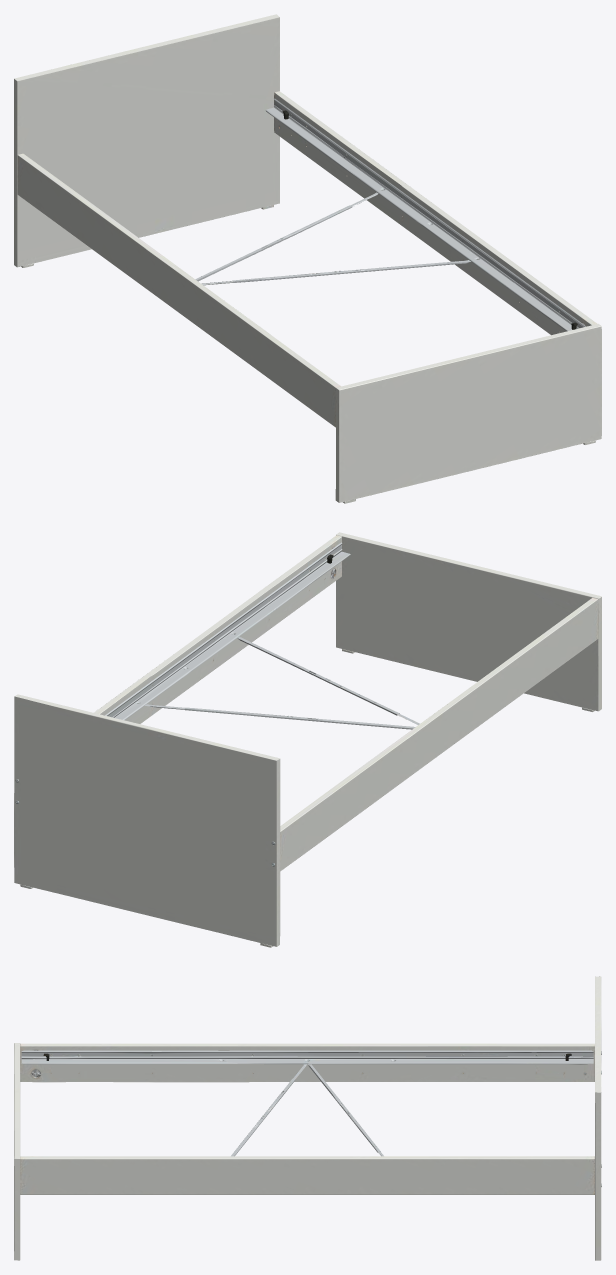
File: 11 - VIHALS Bed frame - white 90x200 cm.glb
3 renders of one model, top to bottom at view 1: azimuth 30°, elevation 25°; view 2: azimuth 150°, elevation 25°; view 3: azimuth 270°, elevation 25°, orthographic. The views are drawn at different scales.
Parts seen in each view (by area): view 1: ASY_ART_40602424_S01_NV01; view 2: ASY_ART_40602424_S01_NV01; view 3: ASY_ART_40602424_S01_NV01.
Boxes of the visible parts, left/top/right/bottom form: ASY_ART_40602424_S01_NV01: left=14, top=14, right=601, bottom=503; ASY_ART_40602424_S01_NV01: left=14, top=532, right=601, bottom=947; ASY_ART_40602424_S01_NV01: left=14, top=976, right=601, bottom=1260.
Size of the model in its own units: 0.9594 by 0.6588 by 2.06.
Materials: 1 (1 with a texture image).
